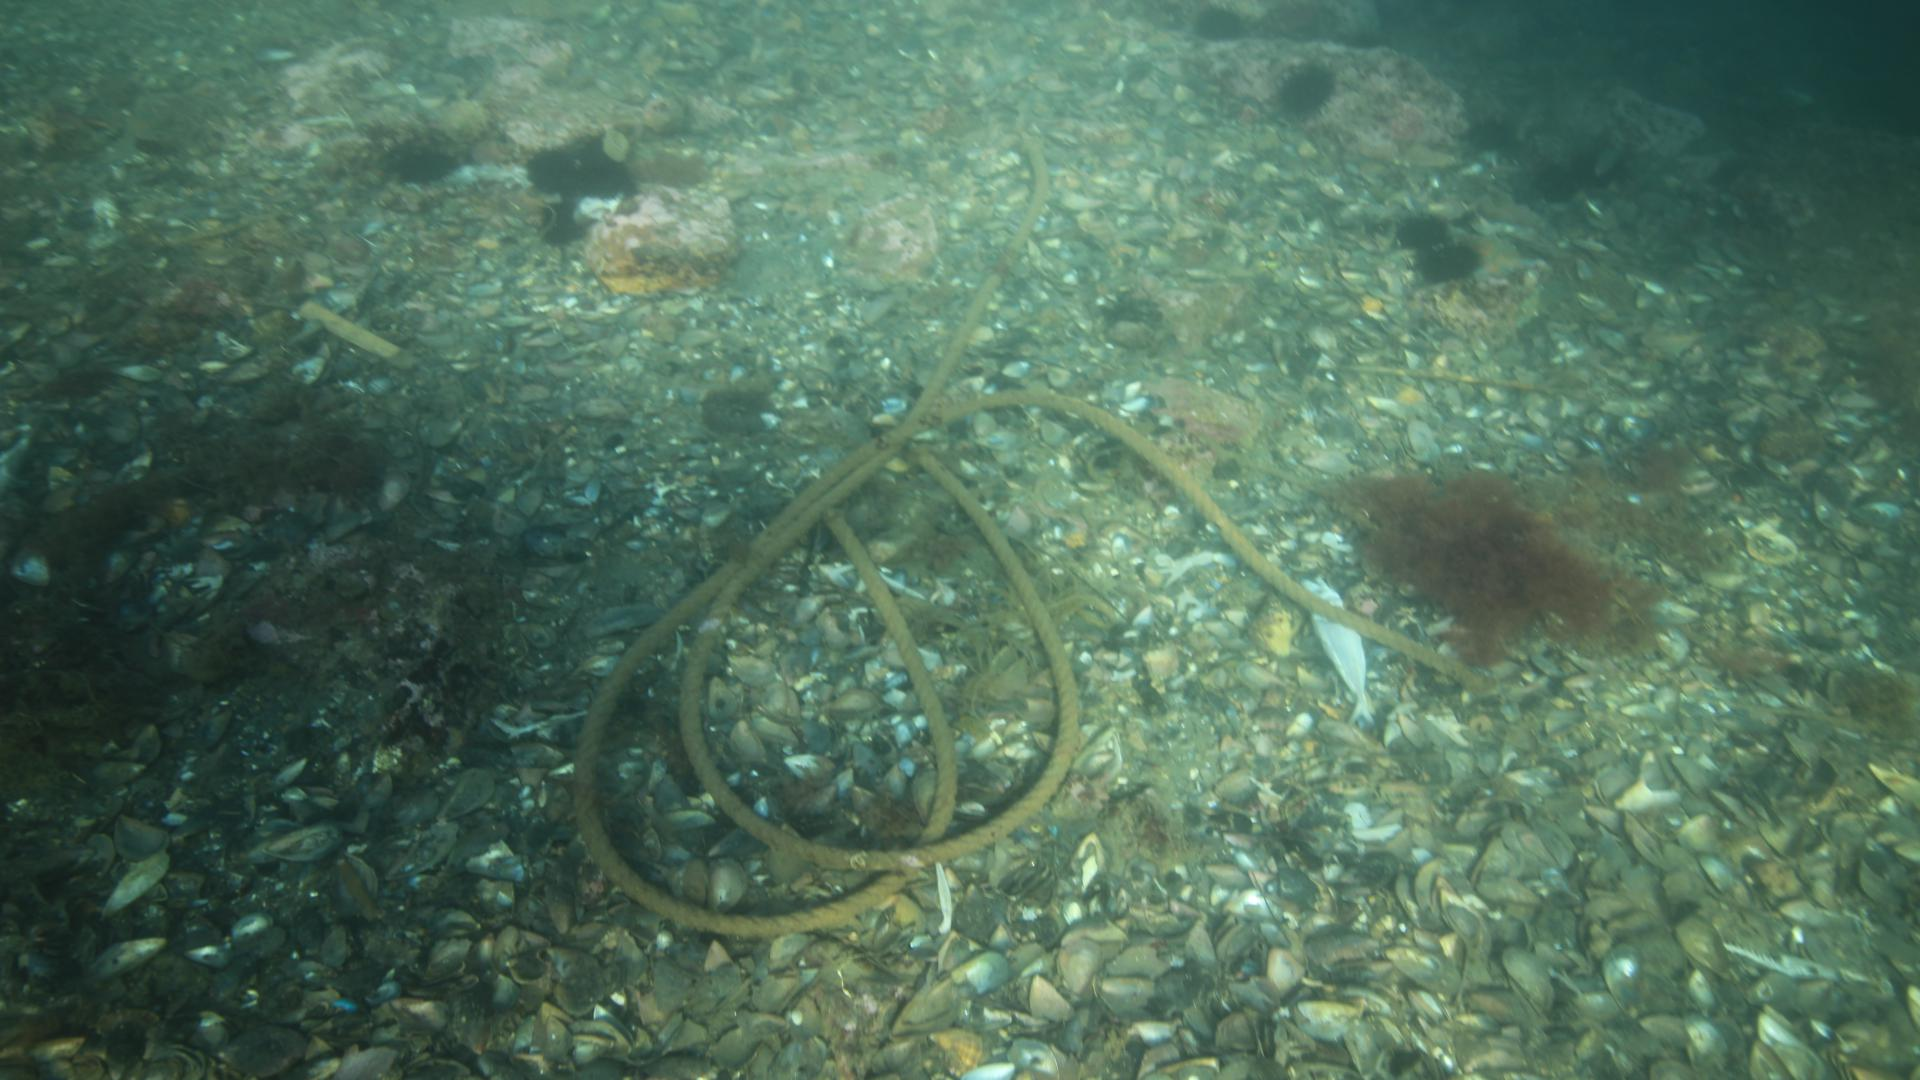bundle of ropes: (566, 104, 1497, 943)
